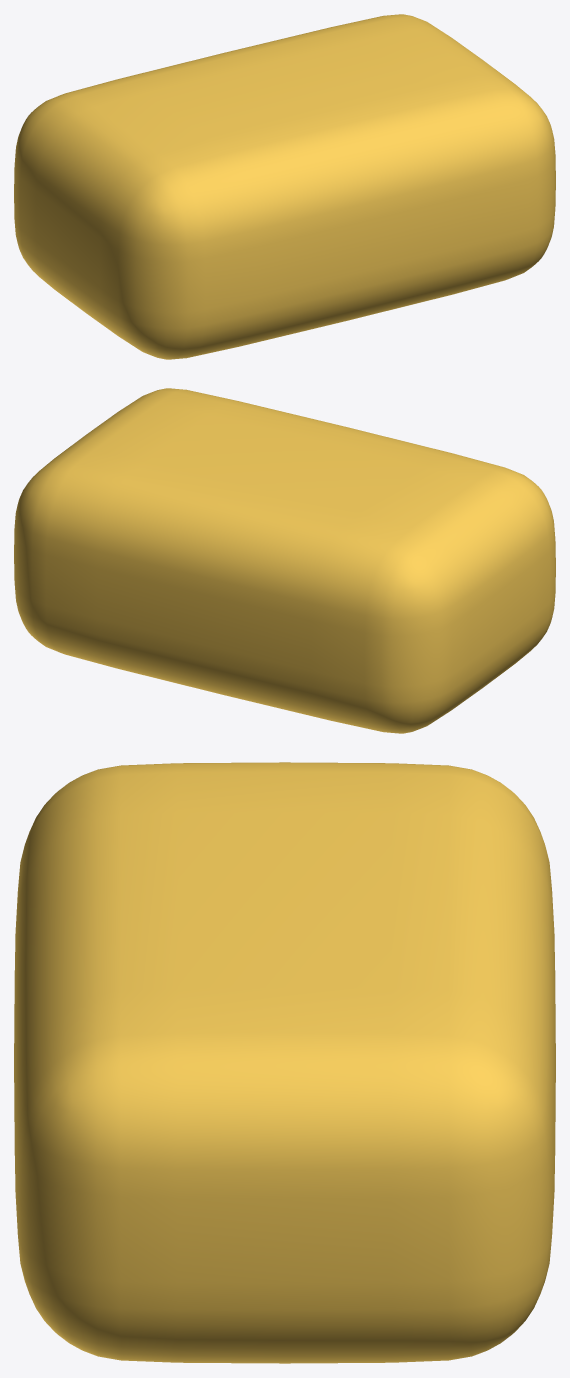
File: Eponge.fbx
3 renders of one model, top to bottom at view 1: azimuth 30°, elevation 25°; view 2: azimuth 150°, elevation 25°; view 3: azimuth 270°, elevation 25°, orthographic. The views are drawn at different scales.
Parts seen in each view (by area): view 1: Eponge_Body; view 2: Eponge_Body; view 3: Eponge_Body.
Boxes of the visible parts, <box> form: Eponge_Body: <box>14,14,555,359</box>; Eponge_Body: <box>14,388,555,733</box>; Eponge_Body: <box>14,762,555,1363</box>.
Size of the model in its own units: 0.1398 by 0.0598 by 0.0898.
